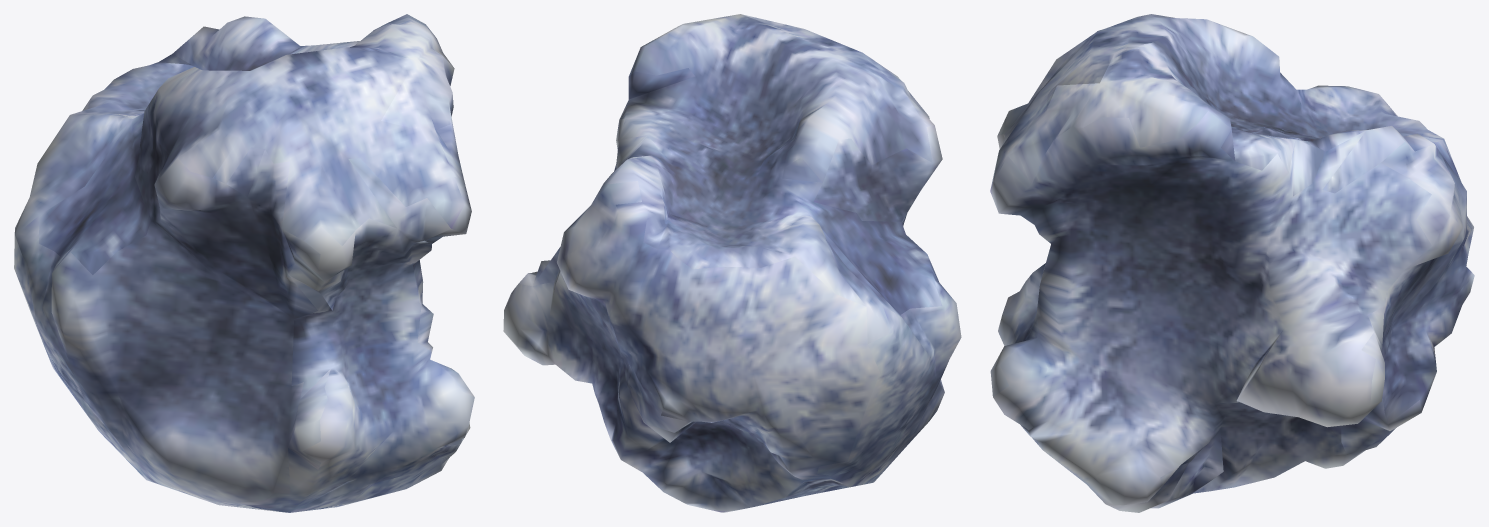
File: Large Asteroid.obj
3 views of the same model, side by side, from view 1: azimuth 30°, elevation 25°; view 2: azimuth 150°, elevation 25°; view 3: azimuth 270°, elevation 25° (orthographic). The views are drawn at different scales.
Parts seen in each view (by area): view 1: MODELS_bin_050:poly000; view 2: MODELS_bin_050:poly000; view 3: MODELS_bin_050:poly000.
Boxes of the visible parts, <box> form: MODELS_bin_050:poly000: <box>14,14,474,512</box>; MODELS_bin_050:poly000: <box>503,14,961,512</box>; MODELS_bin_050:poly000: <box>990,14,1474,512</box>.
Size of the model in its own units: 12.56 by 13.12 by 12.81.
1 material, 1 textured.
